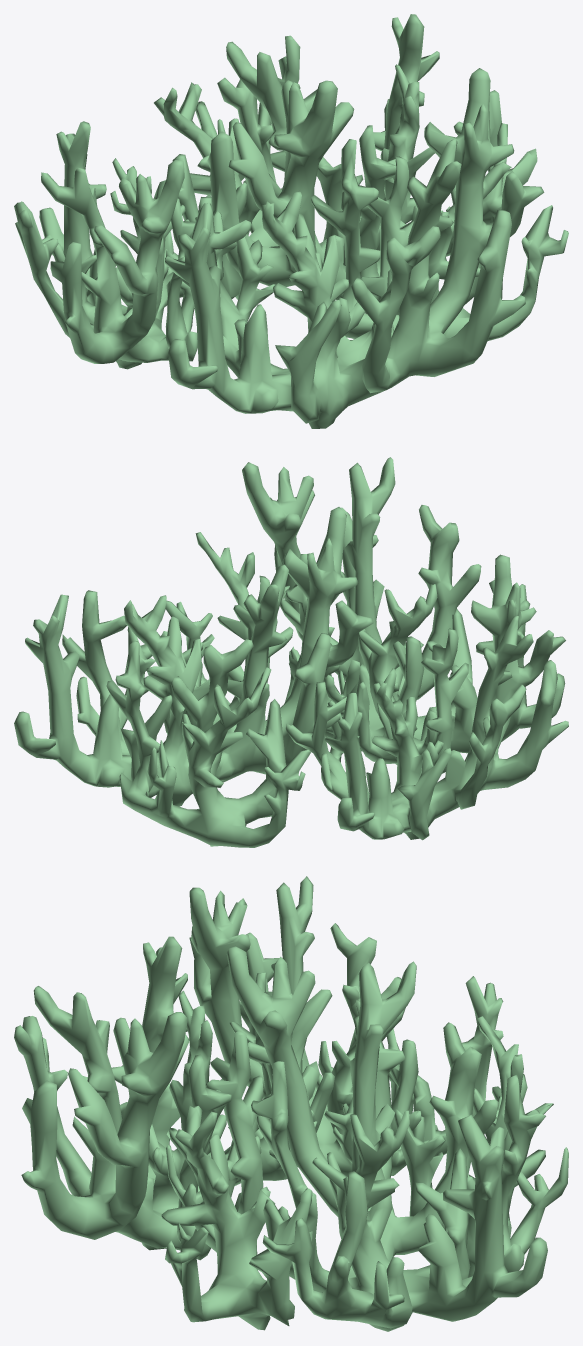
File: SM_ocean_coralFinger_03.fbx
3 views of the same model, one above another, from view 1: azimuth 30°, elevation 25°; view 2: azimuth 150°, elevation 25°; view 3: azimuth 270°, elevation 25° (orthographic). The views are drawn at different scales.
Visible parts, largest first — view 1: SM_ocean_coralFinger_03_LOD0; view 2: SM_ocean_coralFinger_03_LOD0; view 3: SM_ocean_coralFinger_03_LOD0.
Part boxes in pixels (left/top/right/bottom): SM_ocean_coralFinger_03_LOD0: left=14, top=14, right=568, bottom=428; SM_ocean_coralFinger_03_LOD0: left=14, top=457, right=568, bottom=847; SM_ocean_coralFinger_03_LOD0: left=14, top=876, right=568, bottom=1331.
Size of what is drawn, in the model's own units: 160 by 141 by 90.19.
